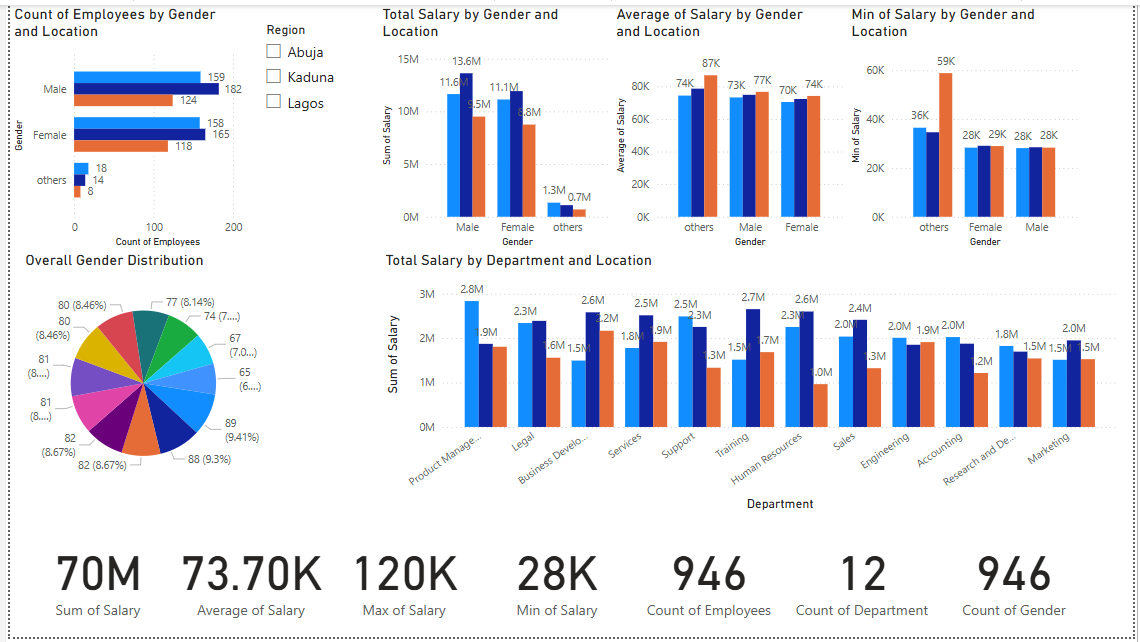

The dashboard page shown, as its layout file describes it:
{"tool":"powerbi","page":{"name":"Page 1","canvas":[1280,720],"ordinal":0},"visuals":[{"type":"clusteredBarChart","fields":{"Category":["Palmoria Group emp-data.Gender"],"Y":["CountNonNull(Palmoria Group emp-data.Employees)"],"Series":["Palmoria Group emp-data.Location"]},"box":[0,0,278.9,280.3],"z":0},{"type":"pieChart","title":"Overall Gender Distribution","fields":{"Y":["CountNonNull(Palmoria Group emp-data.Gender)"],"Category":["Palmoria Group emp-data.Department"]},"box":[12.1,280.3,278.9,280.3],"z":1000},{"type":"slicer","fields":{"Values":["Palmoria Group emp-data.Location"]},"box":[278.9,14.8,278.9,149.6],"z":2000},{"type":"clusteredColumnChart","title":"Total Salary by Gender and Location","fields":{"Category":["Palmoria Group emp-data.Gender"],"Y":["Sum(Palmoria Group emp-data.Salary)"],"Series":["Palmoria Group emp-data.Location"]},"box":[419,0,266.8,280.3],"z":3000},{"type":"clusteredColumnChart","fields":{"Category":["Palmoria Group emp-data.Gender"],"Y":["Avg(Palmoria Group emp-data.Salary)"],"Series":["Palmoria Group emp-data.Location"]},"box":[685.8,0,268.1,280.3],"z":4000},{"type":"clusteredColumnChart","fields":{"Category":["Palmoria Group emp-data.Gender"],"Y":["Min(Palmoria Group emp-data.Salary)"],"Series":["Palmoria Group emp-data.Location"]},"box":[953.9,0,268.1,280.3],"z":5000},{"type":"clusteredColumnChart","title":"Total Salary by Department and Location","fields":{"Y":["Sum(Palmoria Group emp-data.Salary)"],"Category":["Palmoria Group emp-data.Department"],"Series":["Palmoria Group emp-data.Location"]},"box":[423.1,280.3,843.5,300.5],"z":6000},{"type":"card","fields":{"Values":["Sum(Palmoria Group emp-data.Salary)"]},"box":[12.1,580.7,175.2,138.8],"z":7000},{"type":"card","fields":{"Values":["Avg(Palmoria Group emp-data.Salary)"]},"box":[187.3,580.7,175.2,138.8],"z":8000},{"type":"card","fields":{"Values":["Max(Palmoria Group emp-data.Salary)"]},"box":[361.1,580.7,175.2,138.8],"z":9000},{"type":"card","fields":{"Values":["Min(Palmoria Group emp-data.Salary)"]},"box":[534.9,580.7,175.2,138.8],"z":10000},{"type":"card","fields":{"Values":["CountNonNull(Palmoria Group emp-data.Employees)"]},"box":[708.7,580.7,175.2,138.8],"z":11000},{"type":"card","fields":{"Values":["Count(Palmoria Group emp-data.Department)"]},"box":[882.5,580.7,175.2,138.8],"z":12000},{"type":"card","fields":{"Values":["CountNonNull(Palmoria Group emp-data.Gender)"]},"box":[1056.3,580.7,175.2,138.8],"z":13000}]}

Visuals, with their boxes in screenshot pixels (x1, y1, x2, y2), scaled from the page's 1280x720 canvas onto the 1140x642 screenshot:
clusteredBarChart - Palmoria Group emp-data.Gender x CountNonNull(Palmoria Group emp-data.Employees): box(0, 0, 248, 250)
"Overall Gender Distribution" pieChart: box(11, 250, 259, 500)
slicer - Palmoria Group emp-data.Location: box(248, 13, 497, 147)
"Total Salary by Gender and Location" clusteredColumnChart: box(373, 0, 611, 250)
clusteredColumnChart - Palmoria Group emp-data.Gender x Avg(Palmoria Group emp-data.Salary): box(611, 0, 850, 250)
clusteredColumnChart - Palmoria Group emp-data.Gender x Min(Palmoria Group emp-data.Salary): box(850, 0, 1088, 250)
"Total Salary by Department and Location" clusteredColumnChart: box(377, 250, 1128, 518)
card - Sum(Palmoria Group emp-data.Salary): box(11, 518, 167, 641)
card - Avg(Palmoria Group emp-data.Salary): box(167, 518, 323, 641)
card - Max(Palmoria Group emp-data.Salary): box(322, 518, 478, 641)
card - Min(Palmoria Group emp-data.Salary): box(476, 518, 632, 641)
card - CountNonNull(Palmoria Group emp-data.Employees): box(631, 518, 787, 641)
card - Count(Palmoria Group emp-data.Department): box(786, 518, 942, 641)
card - CountNonNull(Palmoria Group emp-data.Gender): box(941, 518, 1097, 641)
